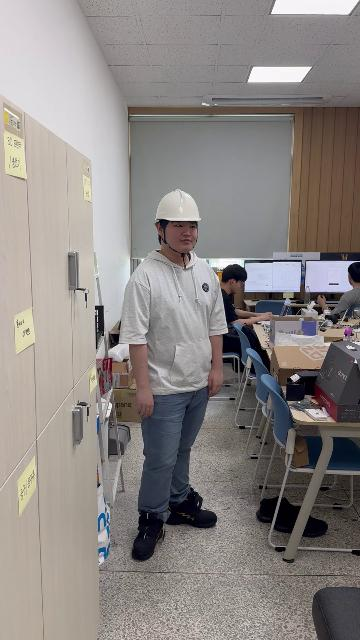helmet_worn: (153, 188, 203, 222)
shoe_not_worn: (260, 500, 327, 536), (256, 495, 288, 523)
shoe_worn: (165, 488, 216, 528), (132, 510, 166, 562)
vest_not_worn: (134, 256, 219, 396)
